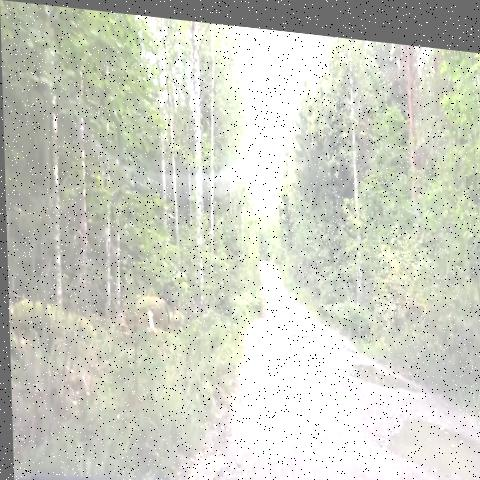pothole: (382, 386, 480, 480), (338, 335, 420, 397), (277, 320, 321, 349)
